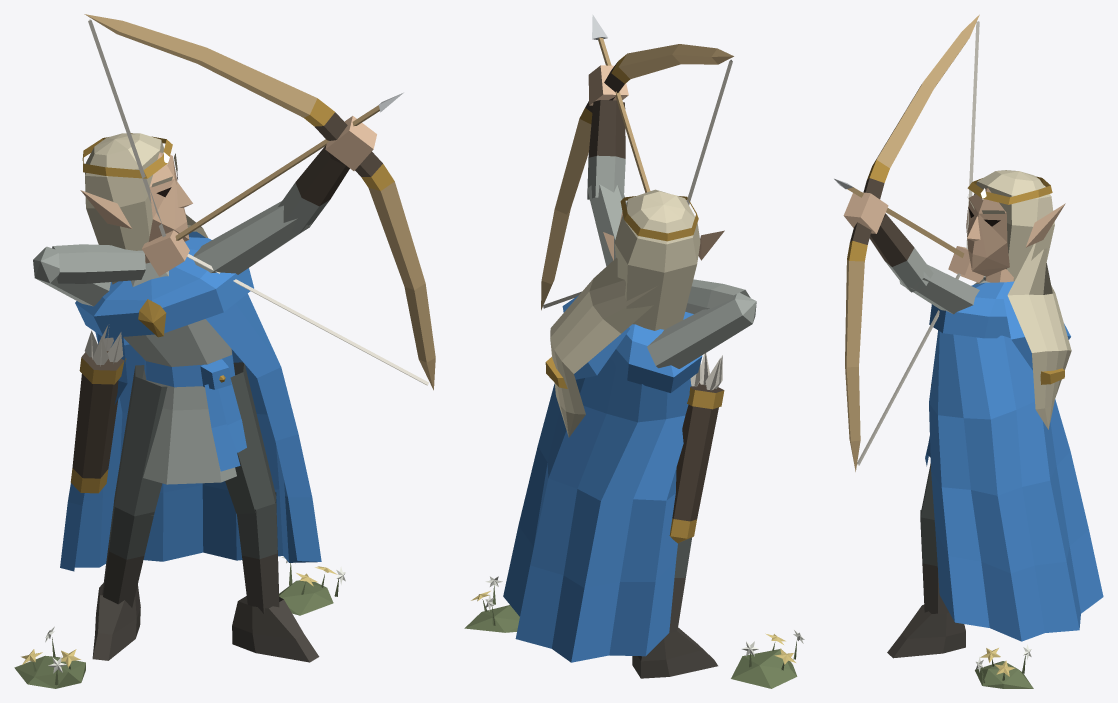
File: haldir-3.glb
3 renders of one model, left to right at view 1: azimuth 30°, elevation 25°; view 2: azimuth 150°, elevation 25°; view 3: azimuth 270°, elevation 25°, orthographic. The views are drawn at different scales.
Parts seen in each view (by area): view 1: haldir-3; view 2: haldir-3; view 3: haldir-3.
Boxes of the visible parts, x1,y1,x2,y2 form: haldir-3: (14,14,435,688); haldir-3: (464,14,804,688); haldir-3: (834,14,1103,688).
Size of the model in its own units: 1.05 by 1.91 by 0.8253.
